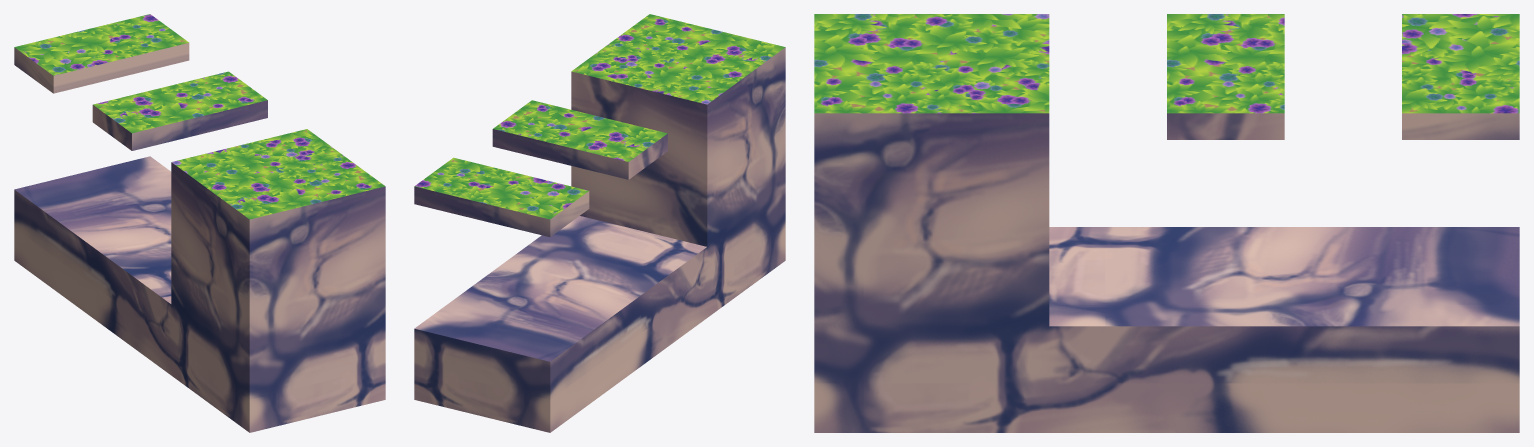
The model's file is block_12.fbx.
The picture shows the model from 3 angles, left to right: view 1: azimuth 30°, elevation 25°; view 2: azimuth 150°, elevation 25°; view 3: azimuth 270°, elevation 25°; orthographic projection. The views are drawn at different scales.
Parts seen in each view (by area): view 1: block_12.001; view 2: block_12.001; view 3: block_12.001.
Part boxes in pixels (box(x1,y1,x2,y2)): block_12.001: box(14, 14, 385, 432); block_12.001: box(414, 14, 785, 432); block_12.001: box(814, 14, 1519, 432).
Bounding box in the file's own units: 400 × 600 × 1200.
2 materials, 2 textured.
